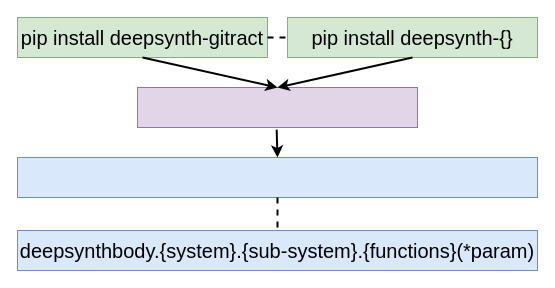
This 555x288 diagram has some shape labels left out. Each missing label, with the centre of its shape:
"deepsynthbody.digestive .gitract.{functions}(*param)" belongs at (x=277, y=177).
"pip install deepsynthbody" belongs at (x=277, y=107).
